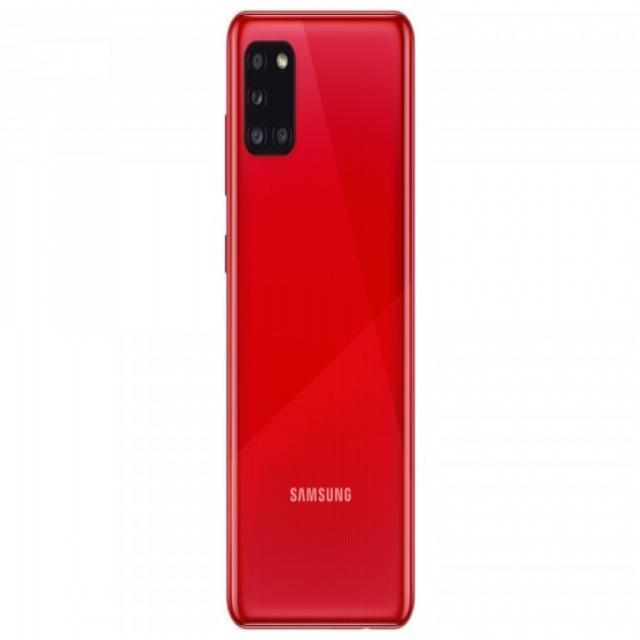Mobile: (220, 6, 419, 631)
